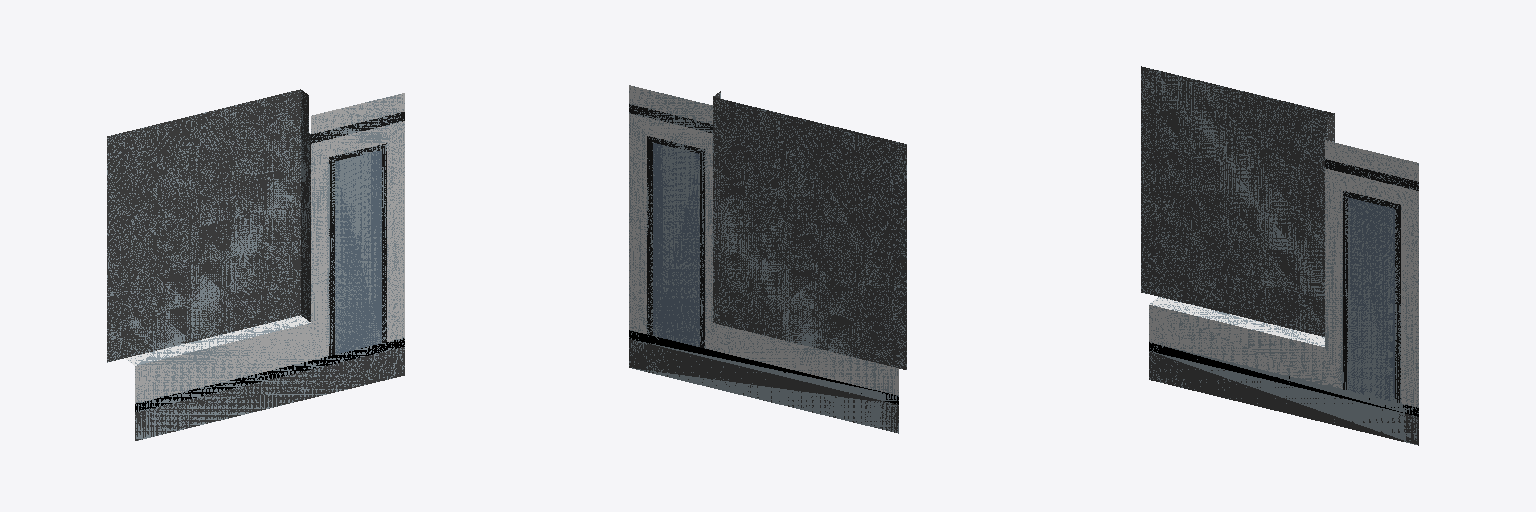
The model's file is budova2.obj.
3 views of the same model, side by side, from view 1: azimuth 30°, elevation 25°; view 2: azimuth 150°, elevation 25°; view 3: azimuth 330°, elevation 25° (orthographic).
Parts seen in each view (by area): view 1: Mesh1 Model; view 2: Mesh1 Model; view 3: Mesh1 Model.
Part boxes in pixels (x1,y1,x2,y2): Mesh1 Model: (107,89,404,440); Mesh1 Model: (629,85,906,433); Mesh1 Model: (1141,66,1418,445).
Bounding box in the file's own units: 16 × 16 × 1.